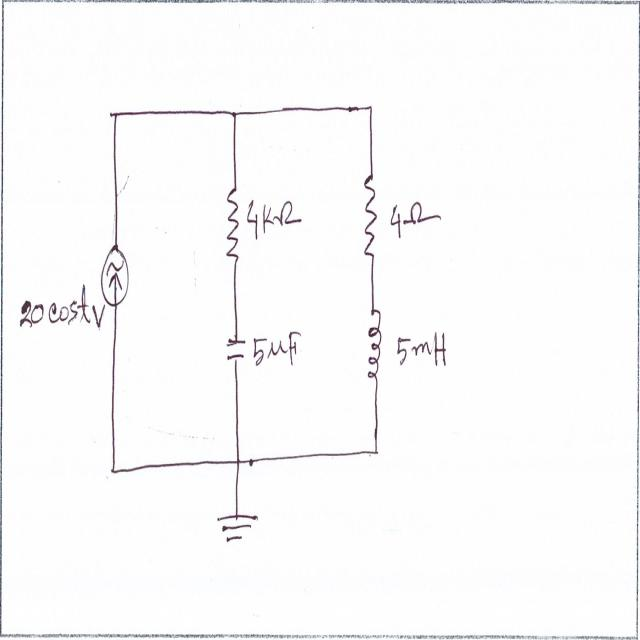capacitor: (224, 333, 248, 363)
current_source: (100, 240, 132, 307)
ground: (214, 503, 265, 555)
inductor: (363, 304, 385, 384)
resistor: (359, 172, 381, 267), (225, 184, 242, 264)
